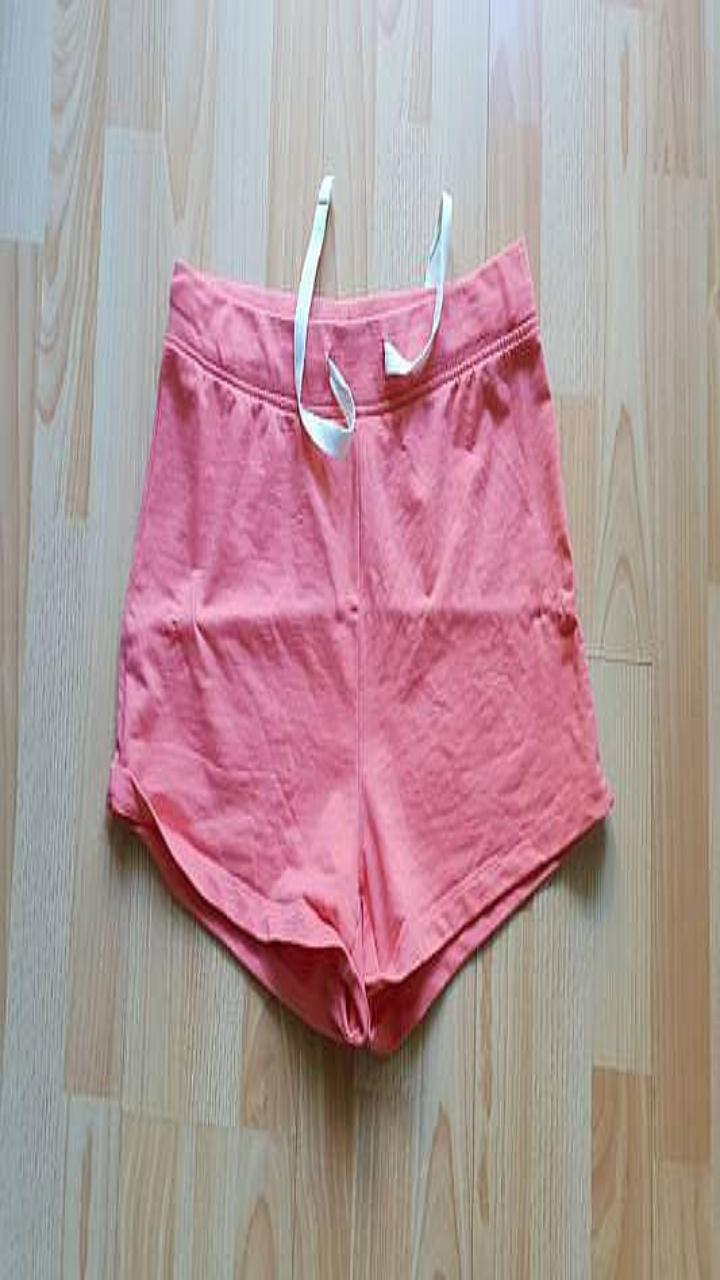Shorts: (108, 241, 611, 1051)
